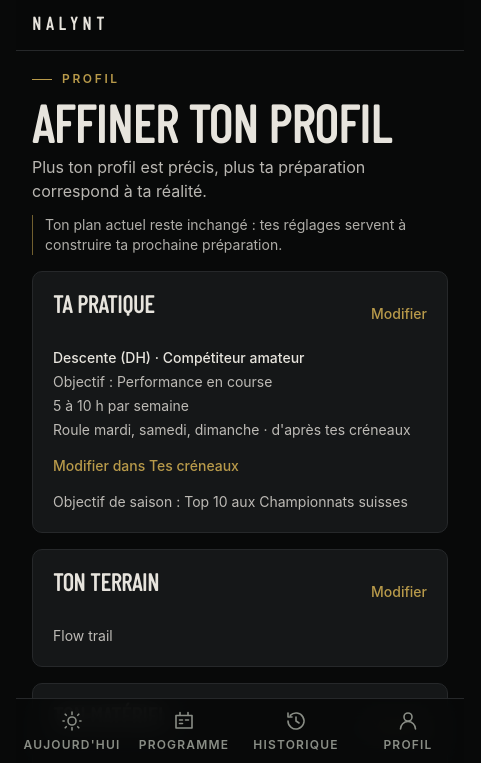
Test: Affiner ton profil — Ta pratique (the first-run answers, now editable) › only what changed is saved, through the onboarding repository; the season objective through the profile
This screenshot has width=481, height=763.
Click the button with aria-label "Modifier ta pratique" at (399, 314), box [371, 292, 427, 336]
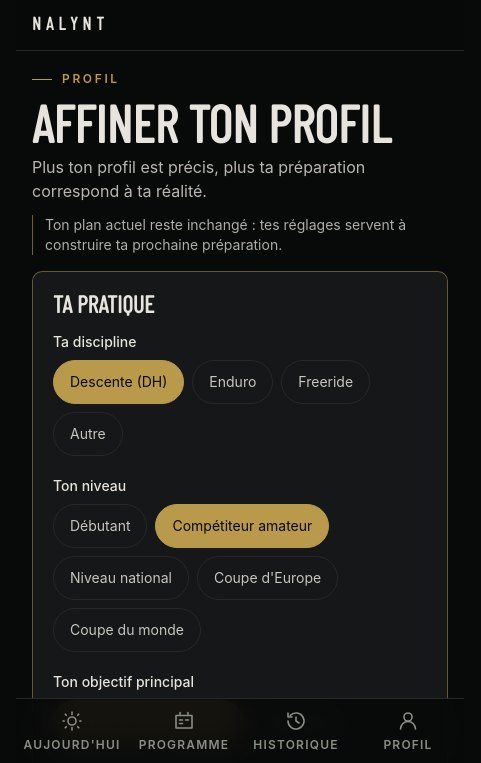
Click the button "Enduro" at (233, 382), box [192, 360, 273, 404]
(page scrolled)
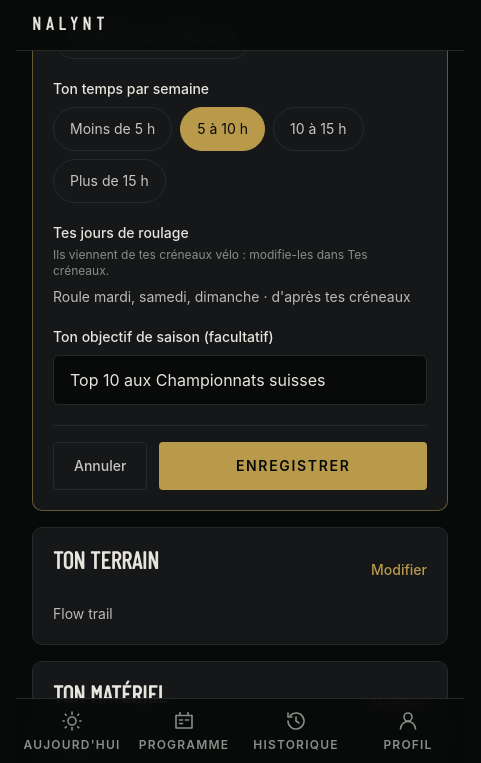
Replace the text in the field labelled "Ton objectif de saison (facultatif)" with "Podium Enduro Series" at (240, 380), box [53, 355, 427, 405]
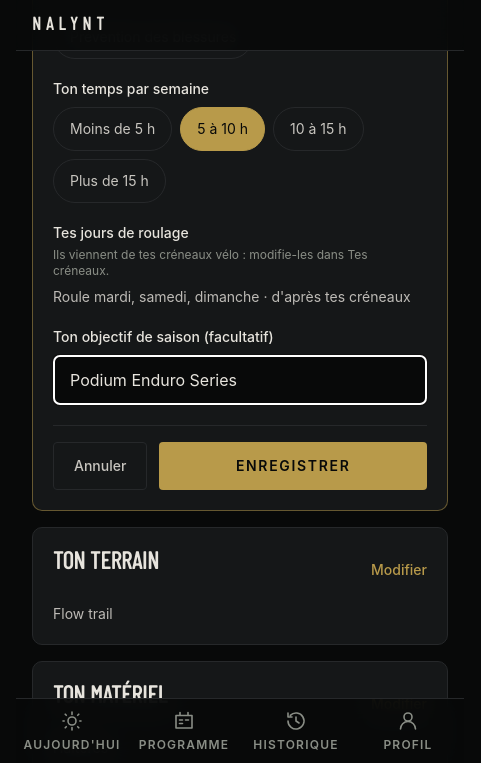
Click the button "Enregistrer" at (293, 466), box [159, 442, 427, 490]
(page scrolled)
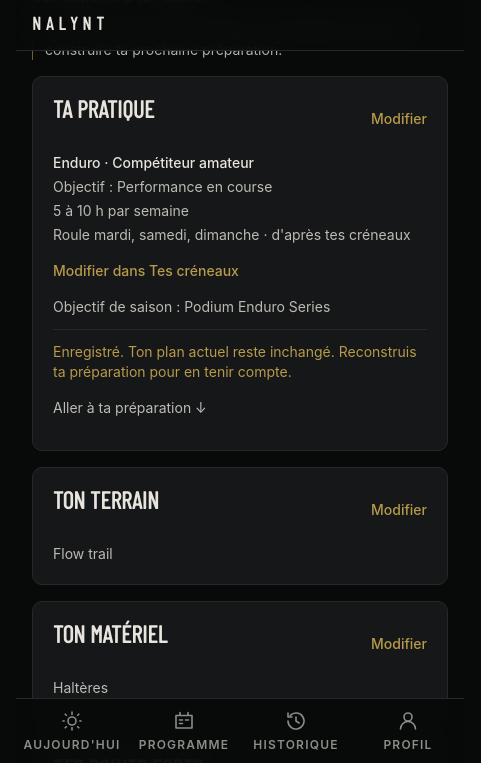
Now the text "Enduro · Compétiteur amateur" is shown, box [53, 154, 254, 171]
Now the message shows "Ton plan actuel reste inchangé", box [53, 343, 417, 380]
